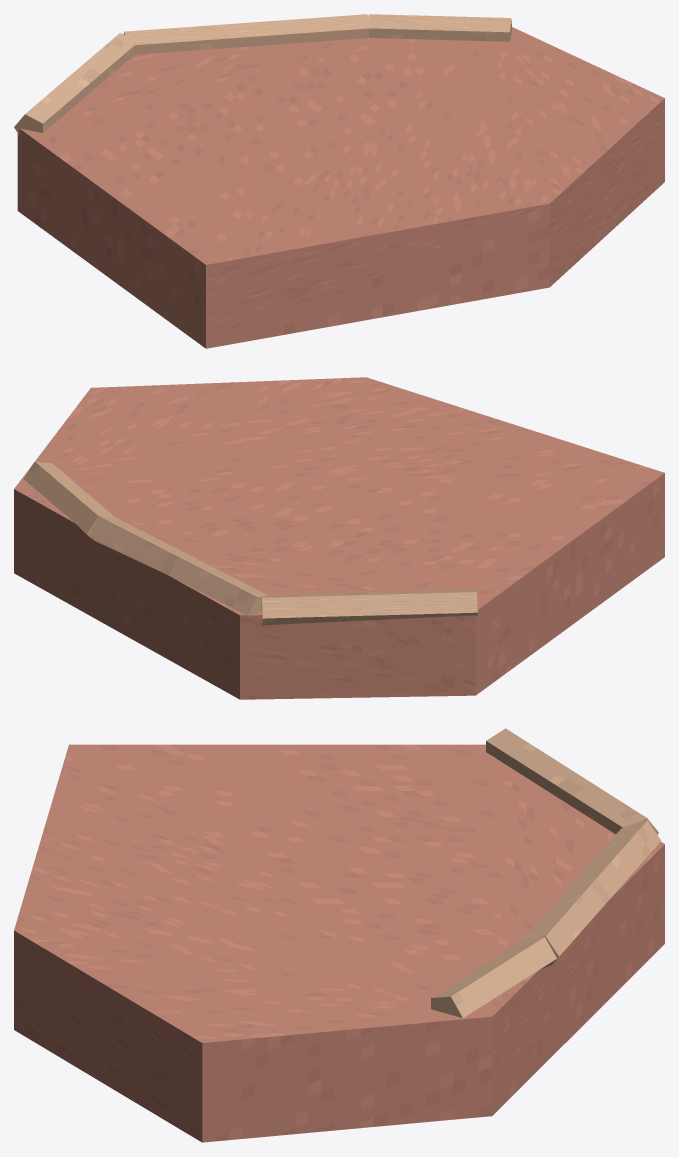
Rendered from fish.glb.
The picture shows the model from 3 angles, top to bottom: view 1: azimuth 30°, elevation 25°; view 2: azimuth 150°, elevation 25°; view 3: azimuth 270°, elevation 25°; orthographic projection. The views are drawn at different scales.
Parts seen in each view (by area): view 1: block_fillet or lobe, block_pale outer edge 1, block_pale outer edge 0, block_pale outer edge 2; view 2: block_fillet or lobe, block_pale outer edge 0, block_pale outer edge 1, block_pale outer edge 2; view 3: block_fillet or lobe, block_pale outer edge 1, block_pale outer edge 0, block_pale outer edge 2.
Part boxes in pixels (left/top/right/bottom): block_fillet or lobe: left=17, top=27, right=664, bottom=348; block_pale outer edge 1: left=123, top=14, right=368, bottom=54; block_pale outer edge 0: left=14, top=33, right=134, bottom=134; block_pale outer edge 2: left=368, top=14, right=511, bottom=41; block_fillet or lobe: left=14, top=377, right=664, bottom=699; block_pale outer edge 0: left=261, top=589, right=477, bottom=625; block_pale outer edge 1: left=90, top=516, right=267, bottom=616; block_pale outer edge 2: left=24, top=461, right=114, bottom=538; block_fillet or lobe: left=14, top=744, right=664, bottom=1142; block_pale outer edge 1: left=524, top=820, right=660, bottom=963; block_pale outer edge 0: left=486, top=728, right=658, bottom=834; block_pale outer edge 2: left=431, top=937, right=556, bottom=1017.
Size of the model in its own units: 0.0962 by 0.0176 by 0.0882.
Materials: 1 (1 with a texture image).
